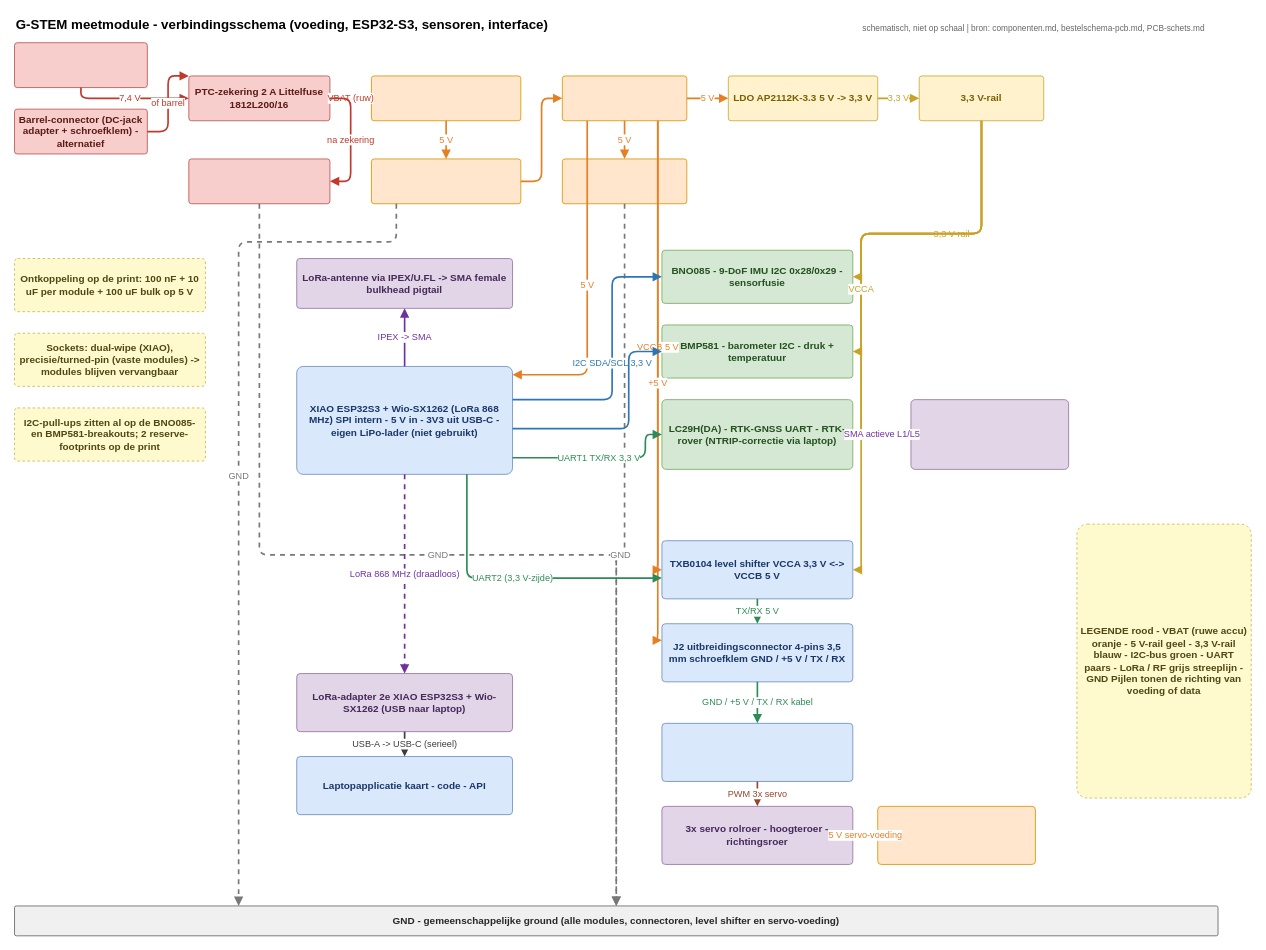
Image size: 1266x950. Some labels were removed from this diagram. Here are the shapes that lost their labels. From the top down, the centre of each, then its label:
the point at 80,65: Accu 2S LiPo 7,4 V (max 8,4 V) XT60 / JST-XH
the point at 446,98: Buck-converter 7,4 V -> 5 V (losse module)
the point at 624,98: 5 V-rail
the point at 259,181: TVS SMBJ10A (spikebeveiliging -> GND)
the point at 446,181: Bulk-elco 100 uF/16 V (op de 5 V-rail -> GND)
the point at 624,181: Power-LED rood + 330 Ohm -> GND
the point at 989,434: Actieve dual-band L1/L5 GNSS-antenne SMA - LNA + ground plane
the point at 757,752: Arduino Uno (mock-up controller, 5 V logica)
the point at 956,835: Aparte buck-converter 5 V servo-voeding (BEC)
